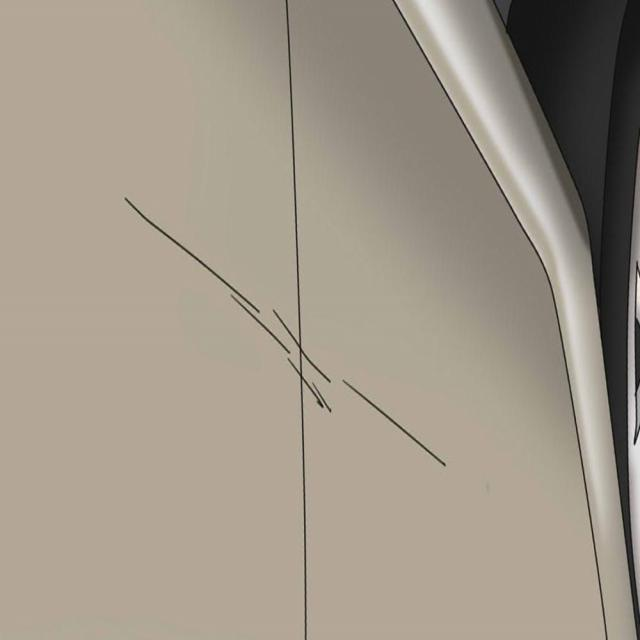scratch: (120, 185, 332, 428), (342, 365, 452, 481)
